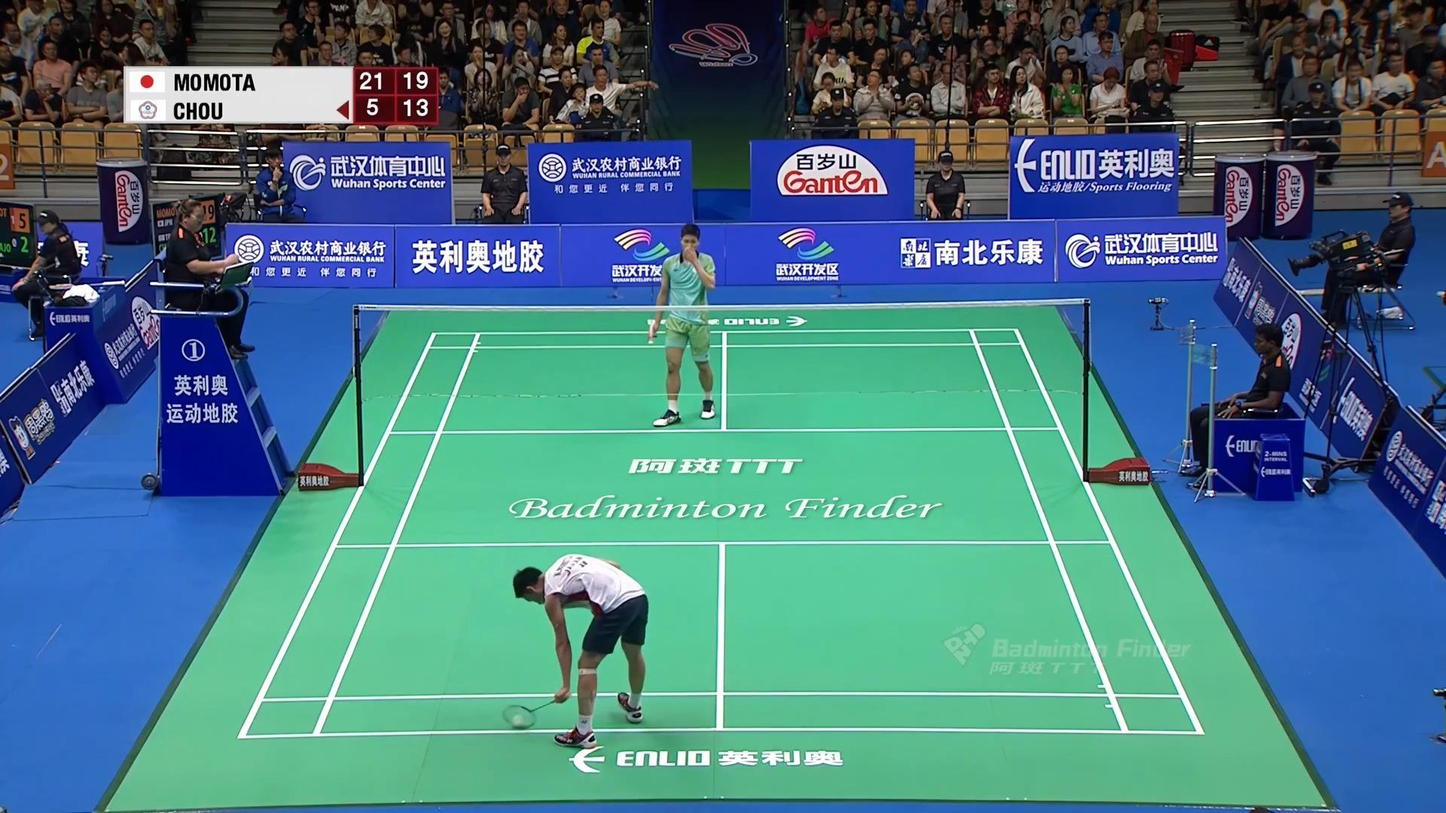player: (512, 553, 650, 748), (647, 222, 716, 427)
